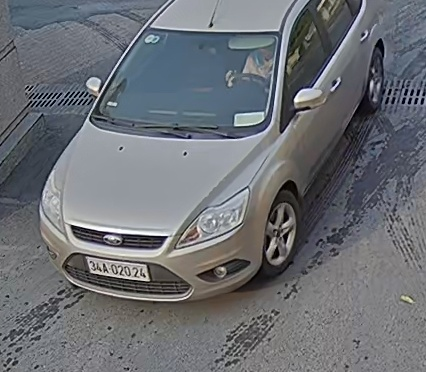vehicle plate: (83, 252, 150, 282)
